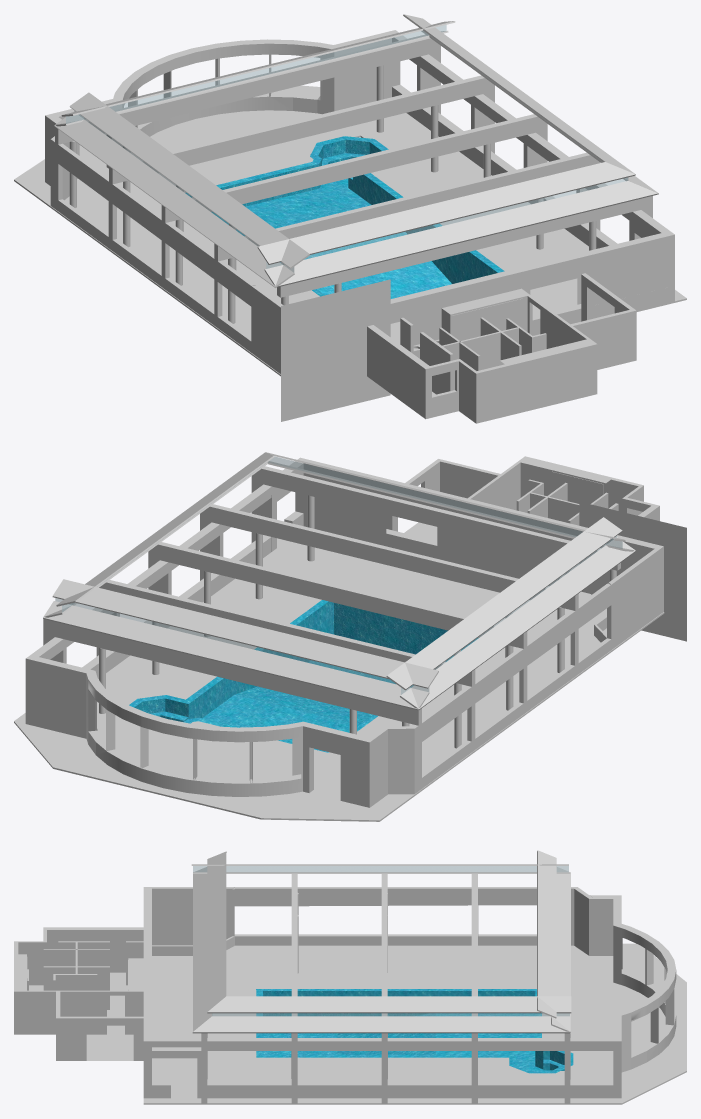
Rendered from piscinepek.glb.
3 renders of one model, top to bottom at view 1: azimuth 30°, elevation 25°; view 2: azimuth 150°, elevation 25°; view 3: azimuth 270°, elevation 25°, orthographic. The views are drawn at different scales.
Parts seen in each view (by area): view 1: _(Loose Entity), G-Object, G-Object.016, G-Object.014, G-Object.006, G-Object.008, G-Object.010, G-Object.003, G-Object.002, G-Object.004, G-Object.015, G-Object.012; view 2: _(Loose Entity), G-Object, G-Object.004, G-Object.002, G-Object.006, G-Object.008, G-Object.015, G-Object.010, G-Object.016, G-Object.003, G-Object.014, G-Object.012; view 3: _(Loose Entity), G-Object, G-Object.012, G-Object.010, G-Object.002, G-Object.014, G-Object.007, G-Object.016, G-Object.004, G-Object.011, G-Object.006, G-Object.008.
Boxes of the visible parts, x1=… form: _(Loose Entity): x1=14, y1=30, x2=686, y2=423; G-Object: x1=185, y1=136, x2=504, y2=298; G-Object.016: x1=264, y1=181, x2=657, y2=287; G-Object.014: x1=257, y1=162, x2=635, y2=264; G-Object.006: x1=69, y1=92, x2=309, y2=268; G-Object.008: x1=54, y1=111, x2=294, y2=287; G-Object.010: x1=403, y1=14, x2=635, y2=175; G-Object.003: x1=66, y1=25, x2=446, y2=123; G-Object.002: x1=61, y1=21, x2=455, y2=116; G-Object.004: x1=56, y1=31, x2=448, y2=126; G-Object.015: x1=266, y1=177, x2=627, y2=268; G-Object.012: x1=421, y1=30, x2=658, y2=194; _(Loose Entity): x1=14, y1=456, x2=686, y2=821; G-Object: x1=129, y1=600, x2=478, y2=752; G-Object.004: x1=43, y1=601, x2=429, y2=710; G-Object.002: x1=52, y1=579, x2=438, y2=688; G-Object.006: x1=386, y1=517, x2=622, y2=690; G-Object.008: x1=400, y1=537, x2=635, y2=709; G-Object.015: x1=268, y1=456, x2=622, y2=548; G-Object.010: x1=56, y1=452, x2=273, y2=606; G-Object.016: x1=267, y1=461, x2=633, y2=551; G-Object.003: x1=55, y1=598, x2=429, y2=691; G-Object.014: x1=266, y1=452, x2=625, y2=541; G-Object.012: x1=44, y1=462, x2=267, y2=617; _(Loose Entity): x1=14, y1=874, x2=686, y2=1104; G-Object: x1=256, y1=989, x2=573, y2=1073; G-Object.012: x1=192, y1=1016, x2=569, y2=1033; G-Object.010: x1=207, y1=996, x2=571, y2=1013; G-Object.002: x1=537, y1=850, x2=556, y2=1018; G-Object.014: x1=207, y1=851, x2=226, y2=1011; G-Object.007: x1=193, y1=866, x2=568, y2=872; G-Object.016: x1=193, y1=867, x2=212, y2=1031; G-Object.004: x1=551, y1=867, x2=570, y2=1032; G-Object.011: x1=212, y1=1013, x2=569, y2=1016; G-Object.006: x1=191, y1=864, x2=568, y2=865; G-Object.008: x1=193, y1=872, x2=570, y2=873.
Size of the model in its own units: 19.15 by 6.99 by 32.1.
3 materials, 2 textured.
